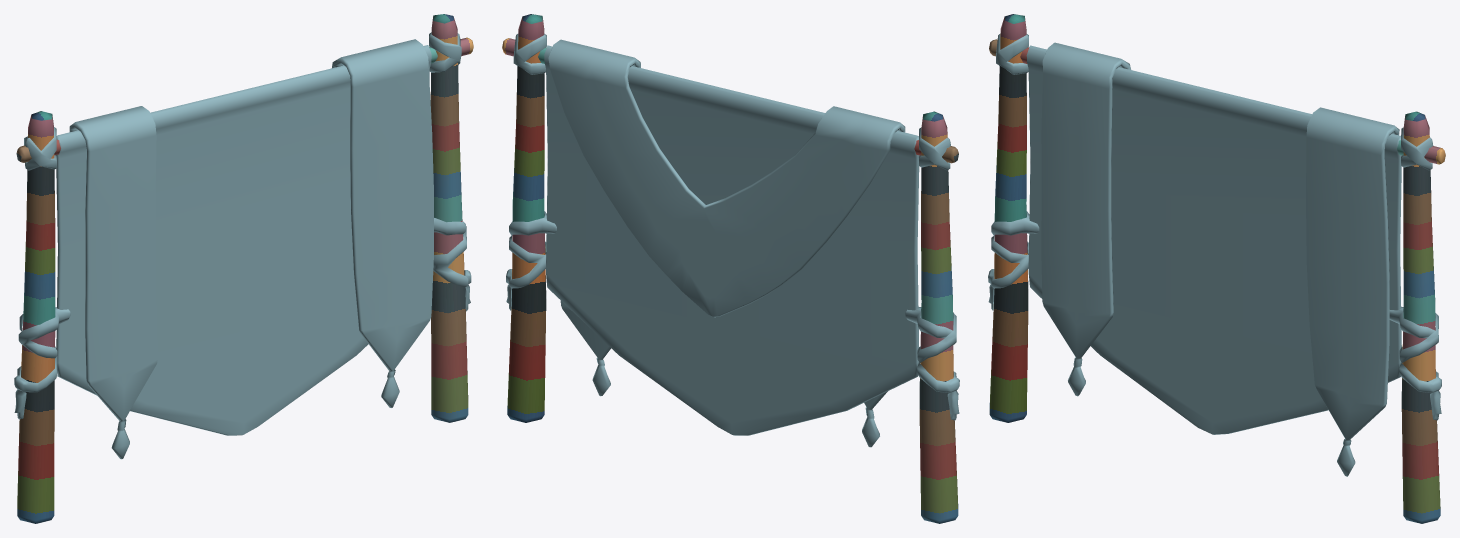
Rendered from P_AP25ClothDivider.glb.
The picture shows the model from 3 angles, left to right: view 1: azimuth 30°, elevation 25°; view 2: azimuth 150°, elevation 25°; view 3: azimuth 330°, elevation 25°; orthographic projection.
Visible parts, largest first — view 1: P_AP25ClothDivider; view 2: P_AP25ClothDivider; view 3: P_AP25ClothDivider.
Boxes of the visible parts, box(x1,y1,x2,y2) form: P_AP25ClothDivider: box(14, 14, 473, 523); P_AP25ClothDivider: box(502, 14, 959, 523); P_AP25ClothDivider: box(988, 14, 1445, 523).
Bounding box in the file's own units: 2.09 × 1.76 × 0.1674.
Materials: 1 (1 with a texture image).
